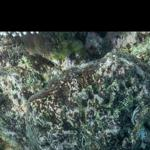dead: (2, 34, 145, 146)
